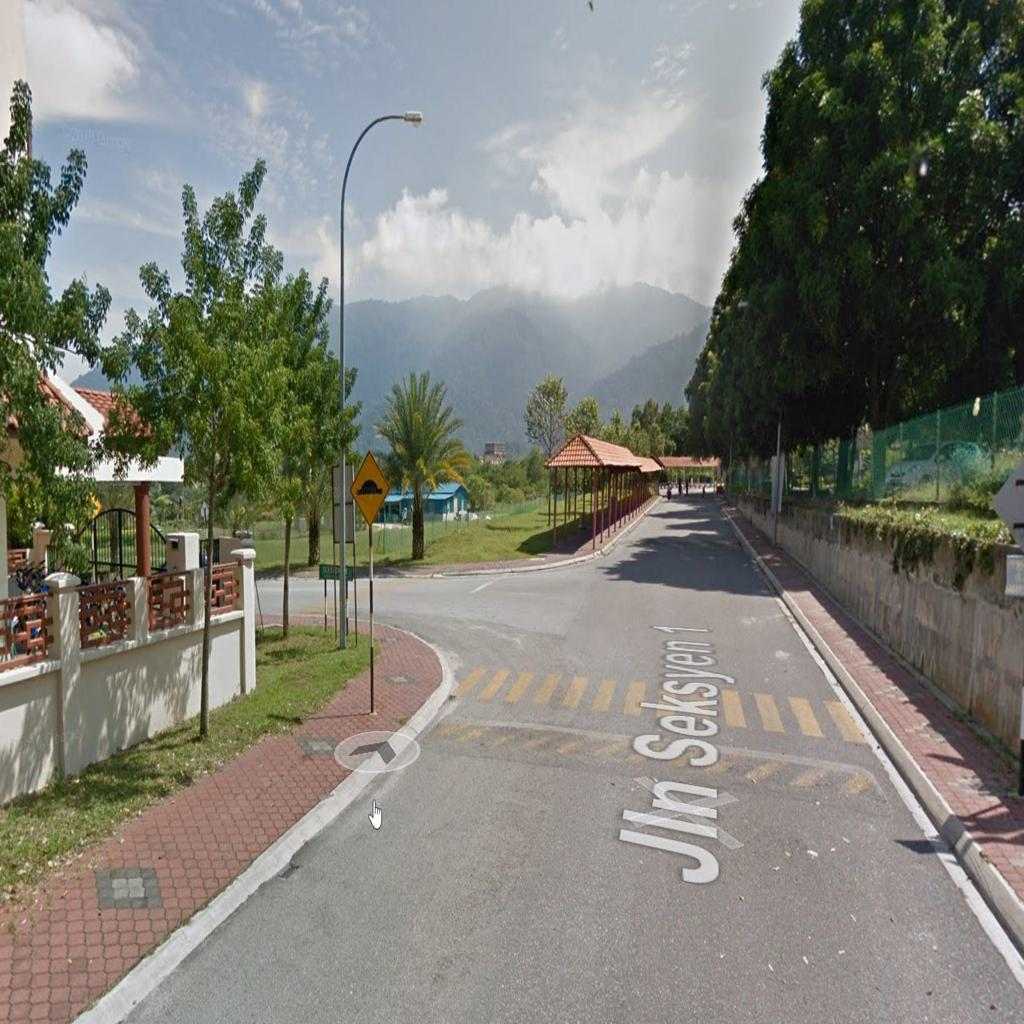Junction: (279, 554, 577, 695)
